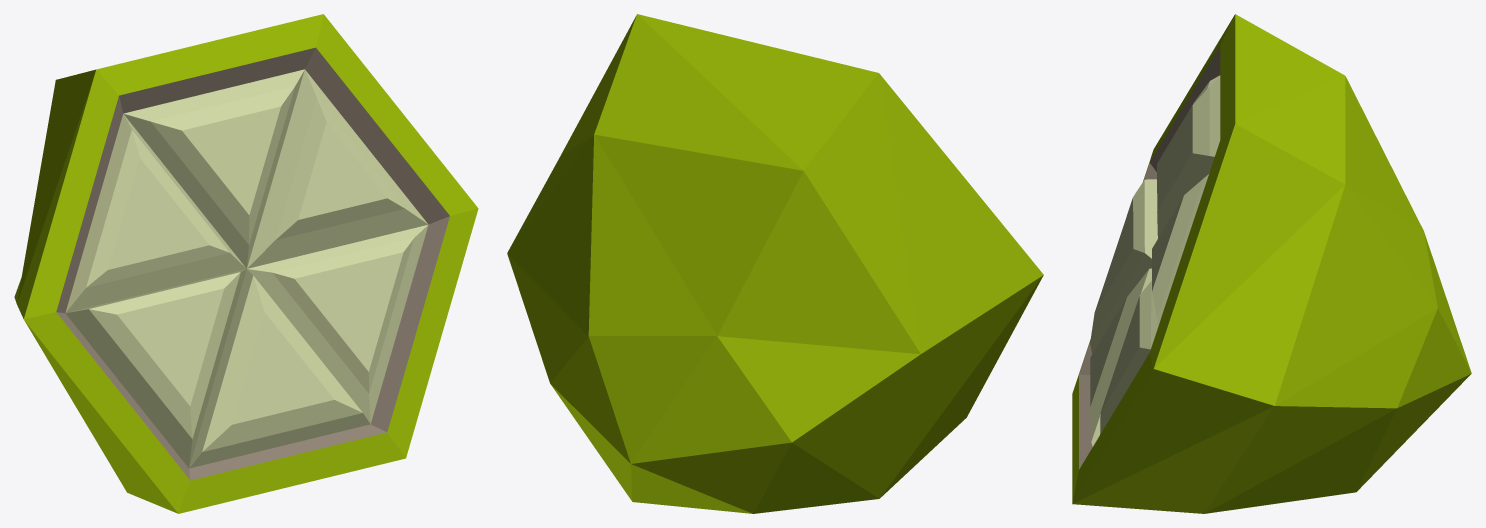
Rendered from limette.fbx.
3 views of the same model, side by side, from view 1: azimuth 30°, elevation 25°; view 2: azimuth 150°, elevation 25°; view 3: azimuth 270°, elevation 25° (orthographic). The views are drawn at different scales.
Visible parts, largest first — view 1: pSphere2; view 2: pSphere2; view 3: pSphere2.
Part boxes in pixels (x1,y1,x2,y2): pSphere2: [14, 14, 478, 513]; pSphere2: [507, 14, 1043, 513]; pSphere2: [1072, 14, 1471, 513].
Size of the model in its own units: 0.02 by 0.0175 by 0.0154.
